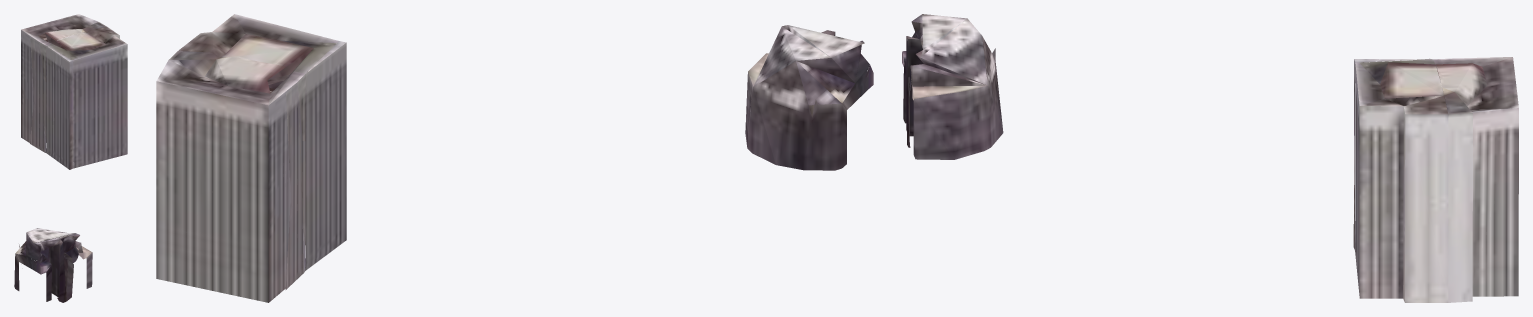
The picture shows the model from 3 angles, left to right: view 1: azimuth 30°, elevation 25°; view 2: azimuth 150°, elevation 25°; view 3: azimuth 270°, elevation 25°; orthographic projection. The views are drawn at different scales.
Visible parts, largest first — view 1: Mesh_0; view 2: Mesh_0; view 3: Mesh_0.
Part boxes in pixels (left/top/right/bottom): Mesh_0: left=14, top=14, right=127, bottom=302; Mesh_0: left=156, top=14, right=873, bottom=302; Mesh_0: left=902, top=14, right=1518, bottom=302.
Size of the model in its own units: 142 by 69.63 by 191.
Materials: 1 (1 with a texture image).
